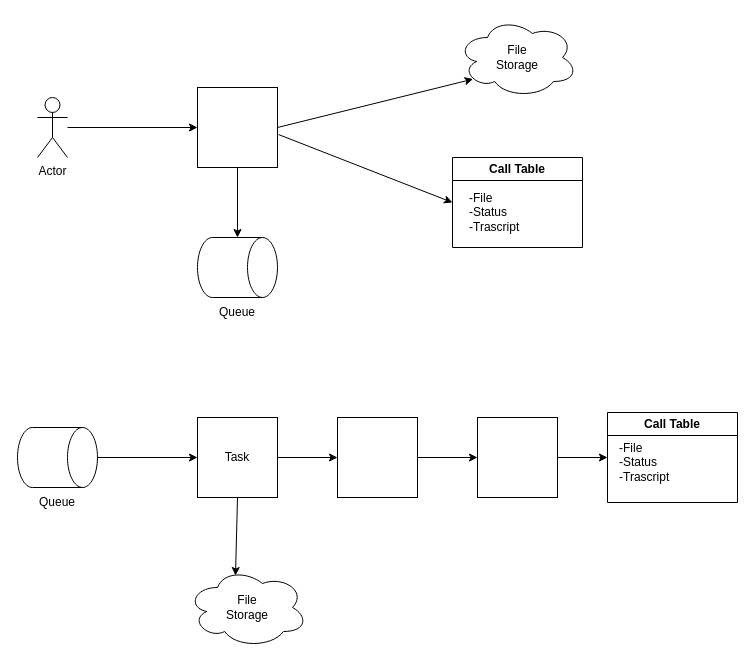
Some shapes in this 755 by 665 pixel diagram are drawn without their labels. The box of each missing label's shape, as (x1, y1, x2, y2) in pixels:
Generate Transcript Api: (336, 416, 418, 498)
LLM Analysis API: (476, 416, 558, 498)
Upload Call Api: (196, 86, 278, 168)
